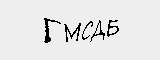Б: (105, 17, 121, 40)
Г: (40, 15, 61, 47)
Д: (90, 17, 105, 46)
М: (63, 21, 80, 46)
С: (79, 18, 93, 44)
